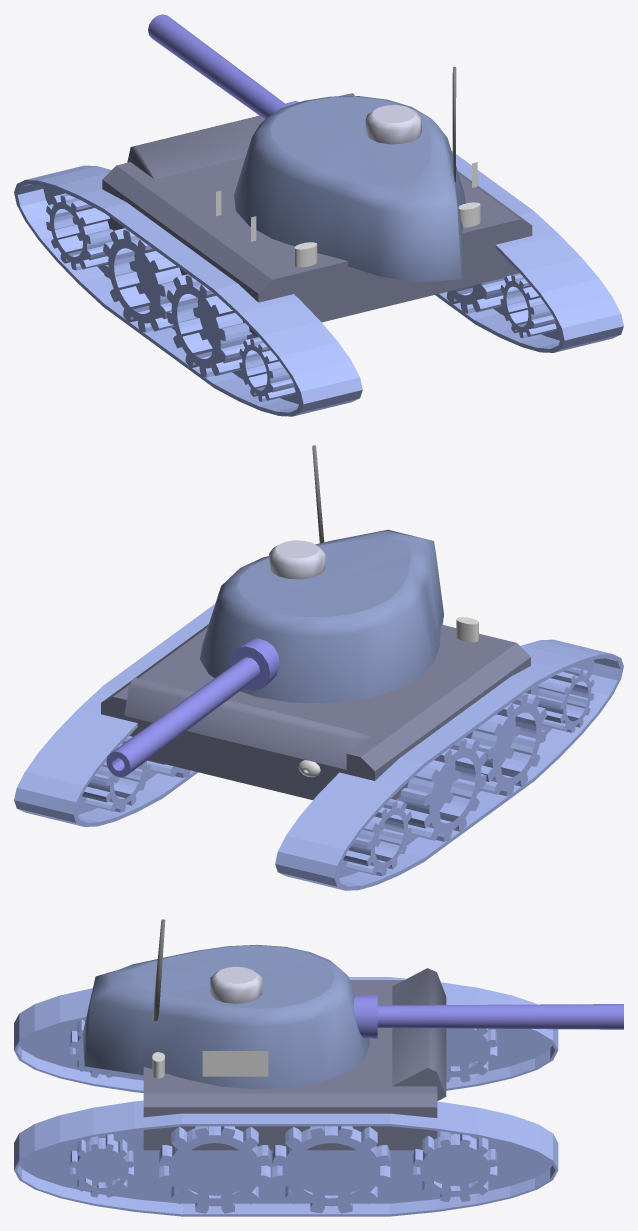
The model's file is grizzly_tank.glb.
3 renders of one model, top to bottom at view 1: azimuth 30°, elevation 25°; view 2: azimuth 150°, elevation 25°; view 3: azimuth 270°, elevation 25°, orthographic. The views are drawn at different scales.
Visible parts, largest first — view 1: Turret, Body, Cylinder.009, Cylinder, Gear.054, Gear.052, Cannon, Gear.051, Gear.053, Gear.002, TurretMini, Gear.001; view 2: Body, Turret, Cylinder.009, Cylinder, Cannon, Gear.052, Gear.054, Gear.051, Gear.053, Gear.004, TurretMini; view 3: Cylinder, Turret, Body, Cylinder.009, Cannon, Gear.003, Gear.001, Gear.004, Gear.002, TurretMini, Gear.051, Gear.053.
Part boxes in pixels (left/top/right/bottom): Turret: left=234, top=66, right=465, bottom=282; Body: left=102, top=93, right=532, bottom=336; Cylinder.009: left=14, top=165, right=362, bottom=416; Cylinder: left=435, top=151, right=623, bottom=352; Gear.054: left=166, top=274, right=251, bottom=377; Gear.052: left=103, top=228, right=181, bottom=332; Cannon: left=148, top=14, right=299, bottom=119; Gear.051: left=46, top=193, right=113, bottom=270; Gear.053: left=239, top=337, right=295, bottom=401; Gear.002: left=500, top=273, right=556, bottom=338; TurretMini: left=365, top=105, right=421, bottom=144; Gear.001: left=446, top=278, right=505, bottom=313; Body: left=101, top=617, right=530, bottom=799; Turret: left=200, top=445, right=443, bottom=703; Cylinder.009: left=275, top=639, right=623, bottom=890; Cylinder: left=14, top=604, right=214, bottom=826; Cannon: left=106, top=638, right=279, bottom=777; Gear.052: left=398, top=737, right=486, bottom=841; Gear.054: left=471, top=693, right=546, bottom=796; Gear.051: left=343, top=799, right=411, bottom=876; Gear.053: left=537, top=667, right=594, bottom=732; Gear.004: left=82, top=736, right=150, bottom=812; TurretMini: left=269, top=540, right=325, bottom=579; Cylinder: left=14, top=1100, right=558, bottom=1216; Turret: left=82, top=919, right=369, bottom=1089; Body: left=143, top=968, right=446, bottom=1150; Cylinder.009: left=14, top=977, right=558, bottom=1092; Cannon: left=353, top=994, right=623, bottom=1038; Gear.003: left=272, top=1126, right=390, bottom=1213; Gear.001: left=159, top=1126, right=270, bottom=1213; Gear.004: left=413, top=1131, right=497, bottom=1201; Gear.002: left=70, top=1134, right=133, bottom=1197; TurretMini: left=210, top=966, right=262, bottom=1003; Gear.051: left=446, top=1028, right=497, bottom=1082; Gear.053: left=70, top=1019, right=113, bottom=1077.
Size of the model in its own units: 3.71 by 3 by 6.5.
